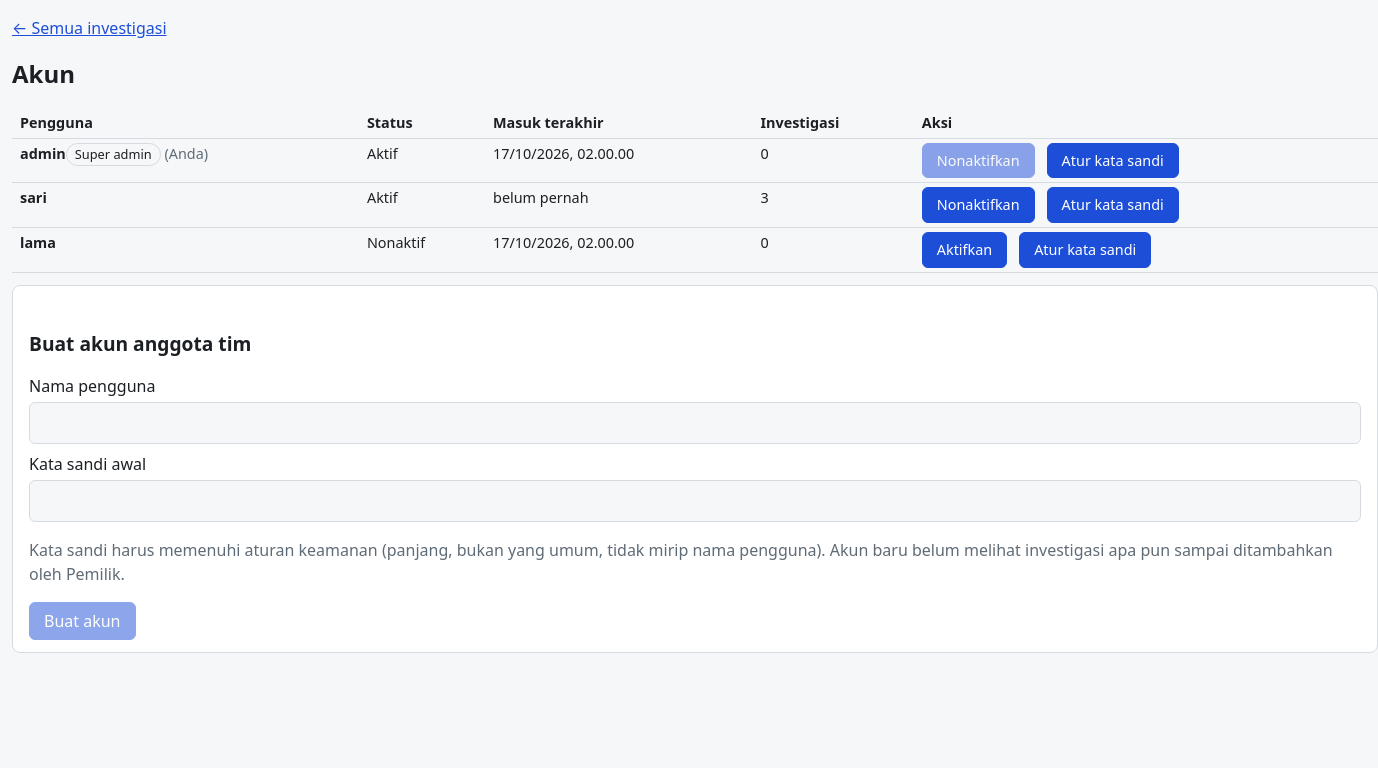
Test case: UsersPage › galat validasi server (kata sandi lemah) ditampilkan
Expected: the table named "Akun pengguna" is shown, x1=12 y1=108 x2=1377 y2=273
In the field labelled "Nama pengguna": (695, 423) x1=29 y1=402 x2=1361 y2=444, type "baru"
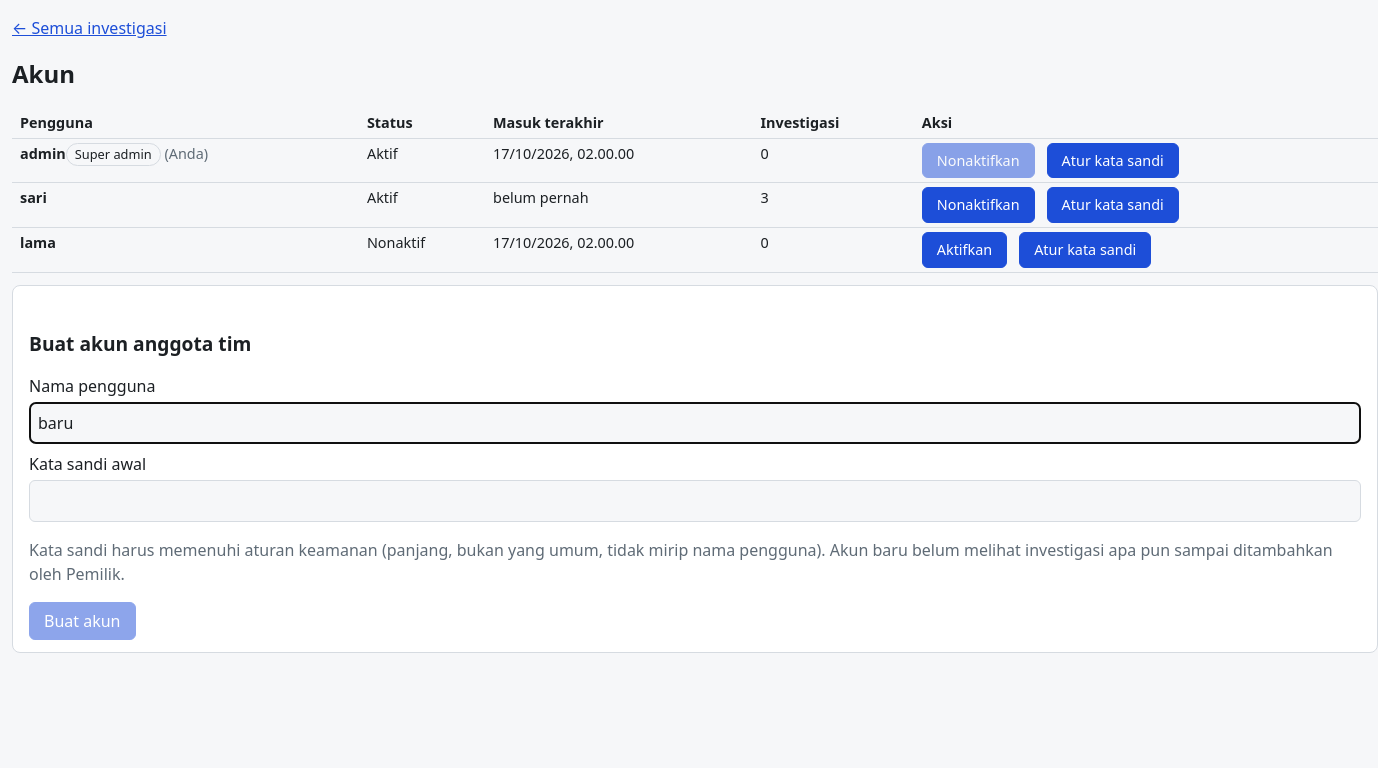
In the password field labelled "Kata sandi awal": (695, 501) x1=29 y1=480 x2=1361 y2=522, type "123"
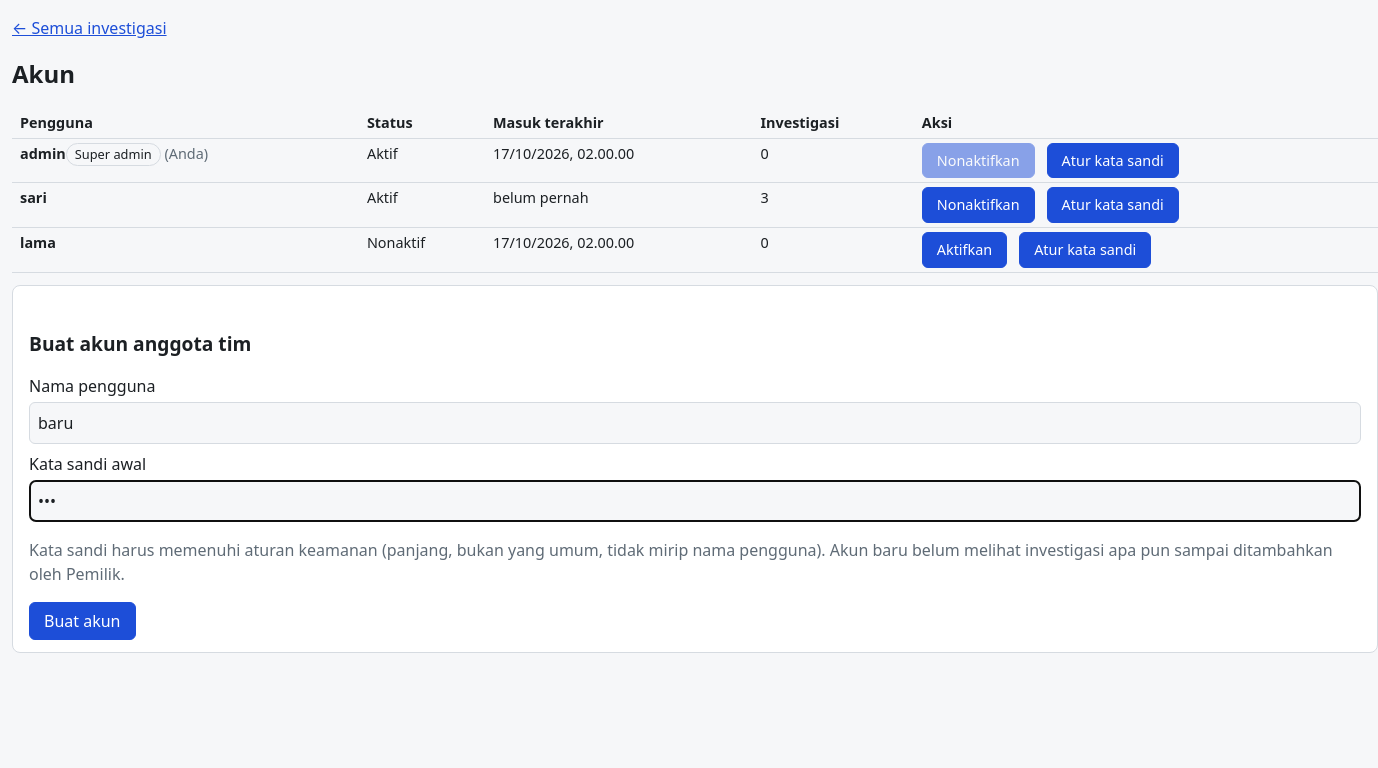
Click the button "Buat akun": click(82, 621) x1=29 y1=602 x2=136 y2=640
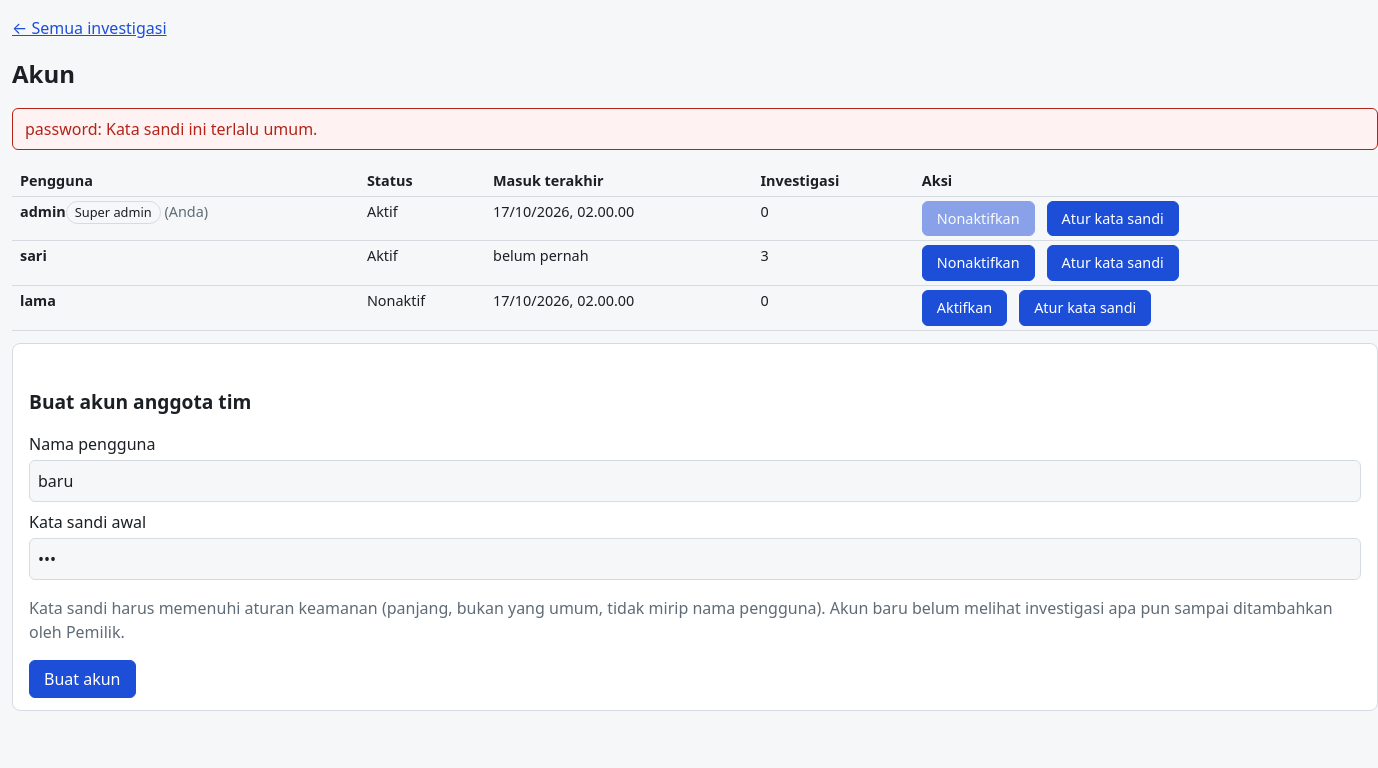
Result: the message shows "terlalu umum" at x1=25 y1=118 x2=317 y2=140
